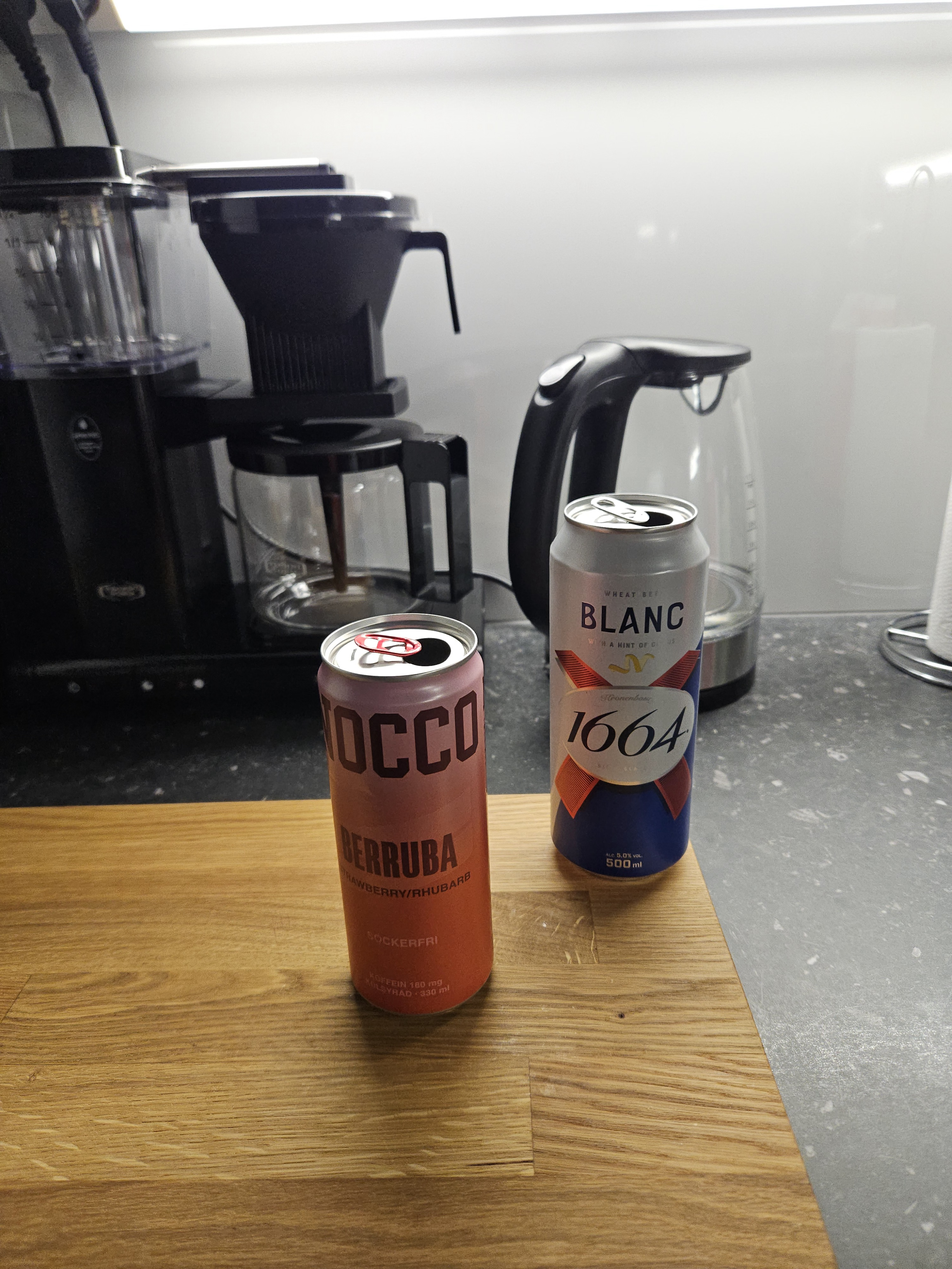Pantburk: (296, 609, 500, 1023), (524, 484, 717, 891)
